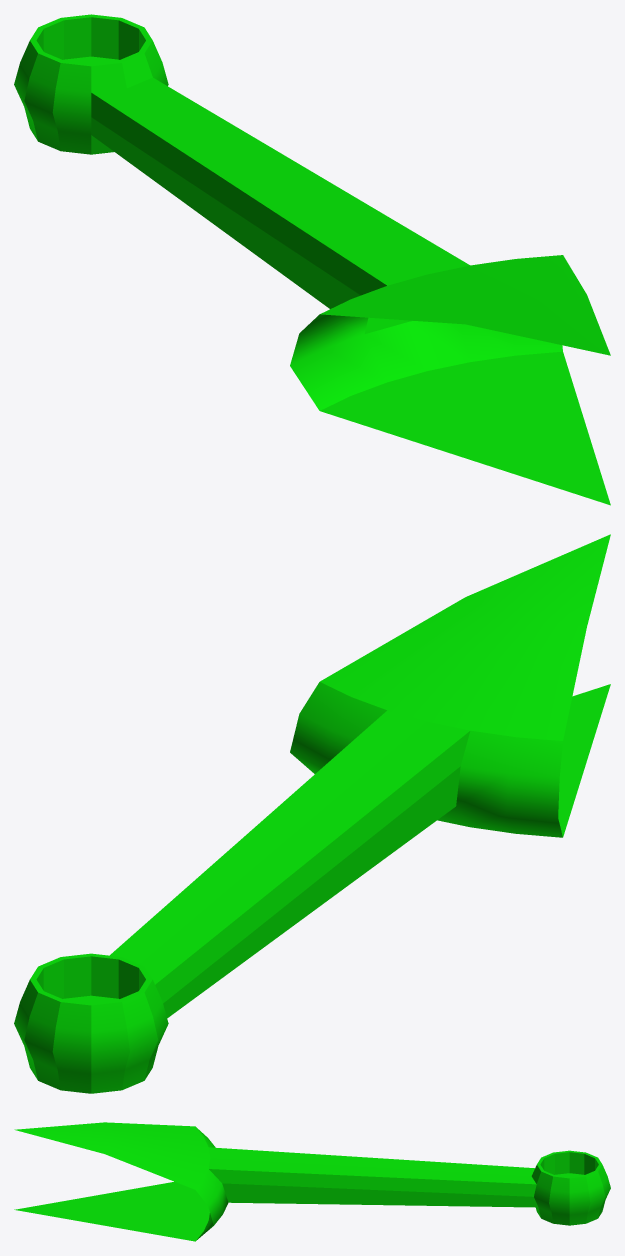
The model's file is body8_15.fbx.
3 renders of one model, top to bottom at view 1: azimuth 30°, elevation 25°; view 2: azimuth 150°, elevation 25°; view 3: azimuth 270°, elevation 25°, orthographic. The views are drawn at different scales.
Visible parts, largest first — view 1: pCylinder253; view 2: pCylinder253; view 3: pCylinder253.
Part boxes in pixels (x1=…): pCylinder253: x1=14, y1=14, x2=610, y2=505; pCylinder253: x1=14, y1=534, x2=610, y2=1093; pCylinder253: x1=14, y1=1122, x2=610, y2=1241.
Bounding box in the file's own units: 3.42 × 1.87 × 12.33.
